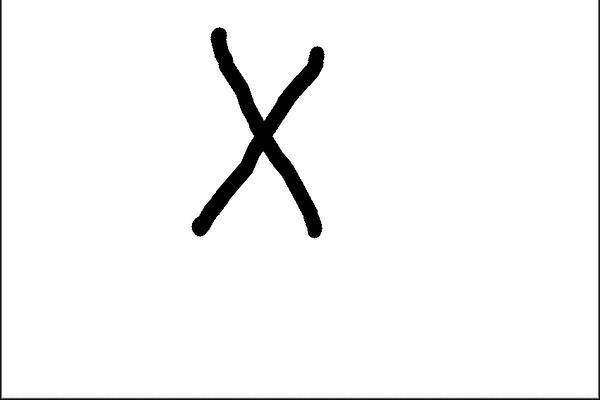X: (163, 6, 359, 242)
